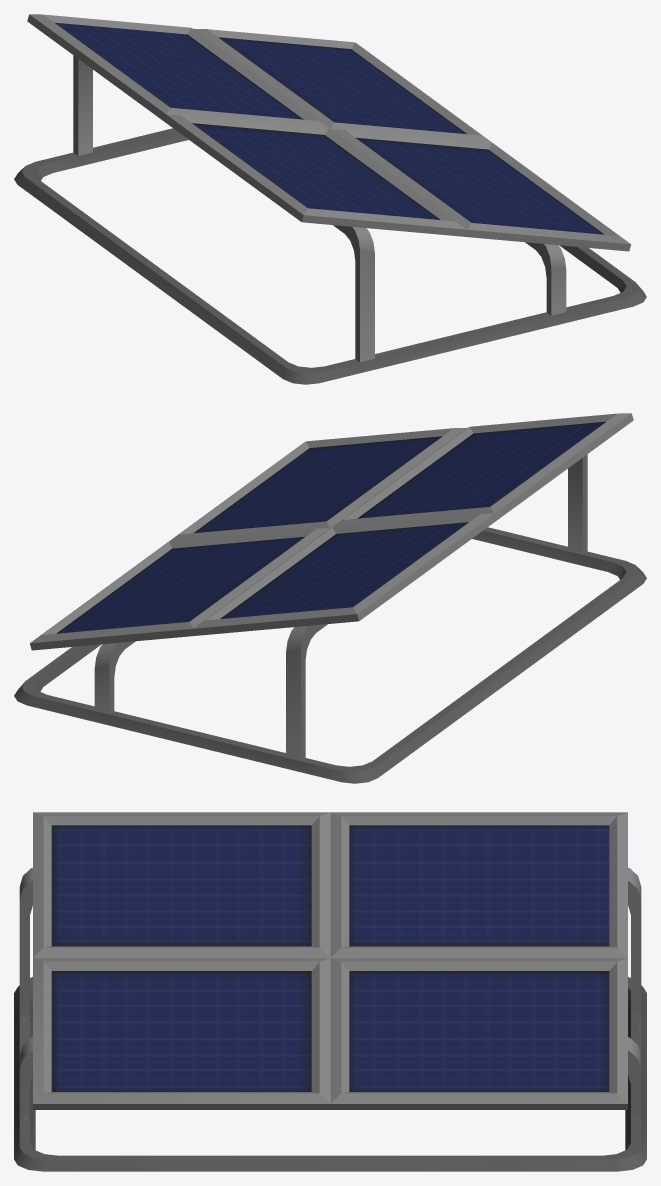
The model's file is _lacaSolar.fbx.
The picture shows the model from 3 angles, top to bottom: view 1: azimuth 30°, elevation 25°; view 2: azimuth 150°, elevation 25°; view 3: azimuth 270°, elevation 25°; orthographic projection. The views are drawn at different scales.
Parts seen in each view (by area): view 1: Cube; view 2: Cube; view 3: Cube.
Boxes of the visible parts, x1,y1,x2,y2 form: Cube: (14, 14, 646, 384); Cube: (14, 413, 646, 783); Cube: (14, 812, 646, 1171).
Size of the model in its own units: 200 by 87.21 by 281.
1 material, 1 textured.
